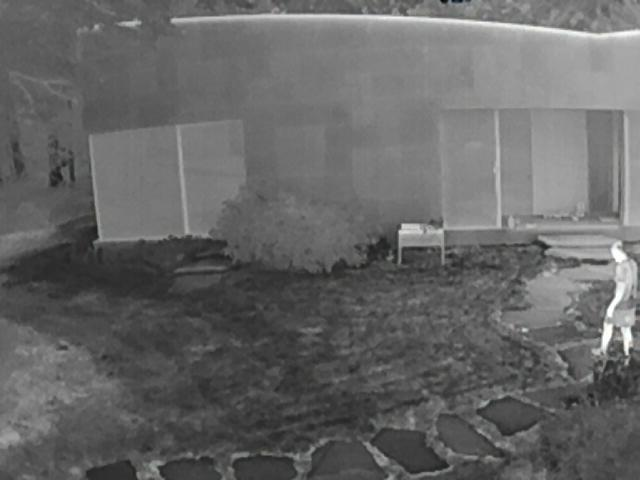person: (592, 238, 640, 363)
